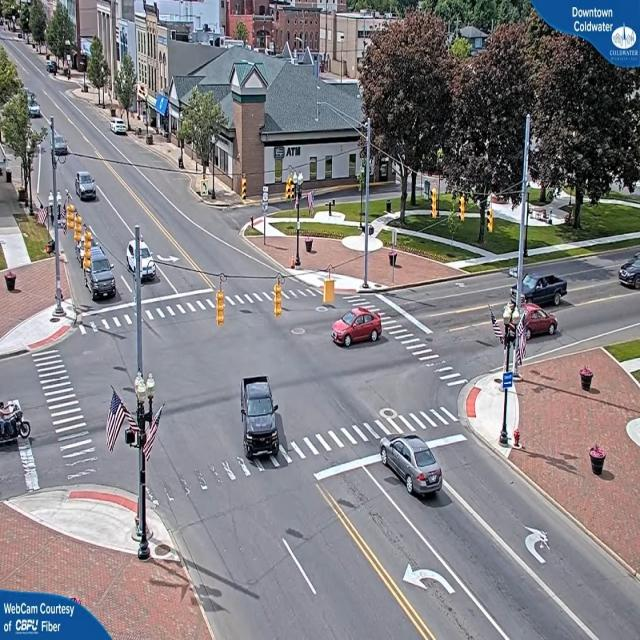car: (382, 434, 443, 497), (240, 373, 279, 456), (332, 306, 384, 349), (82, 242, 116, 299), (526, 271, 568, 306), (526, 304, 560, 338), (619, 262, 639, 288), (112, 120, 130, 138)
motorbike: (0, 398, 36, 452)
